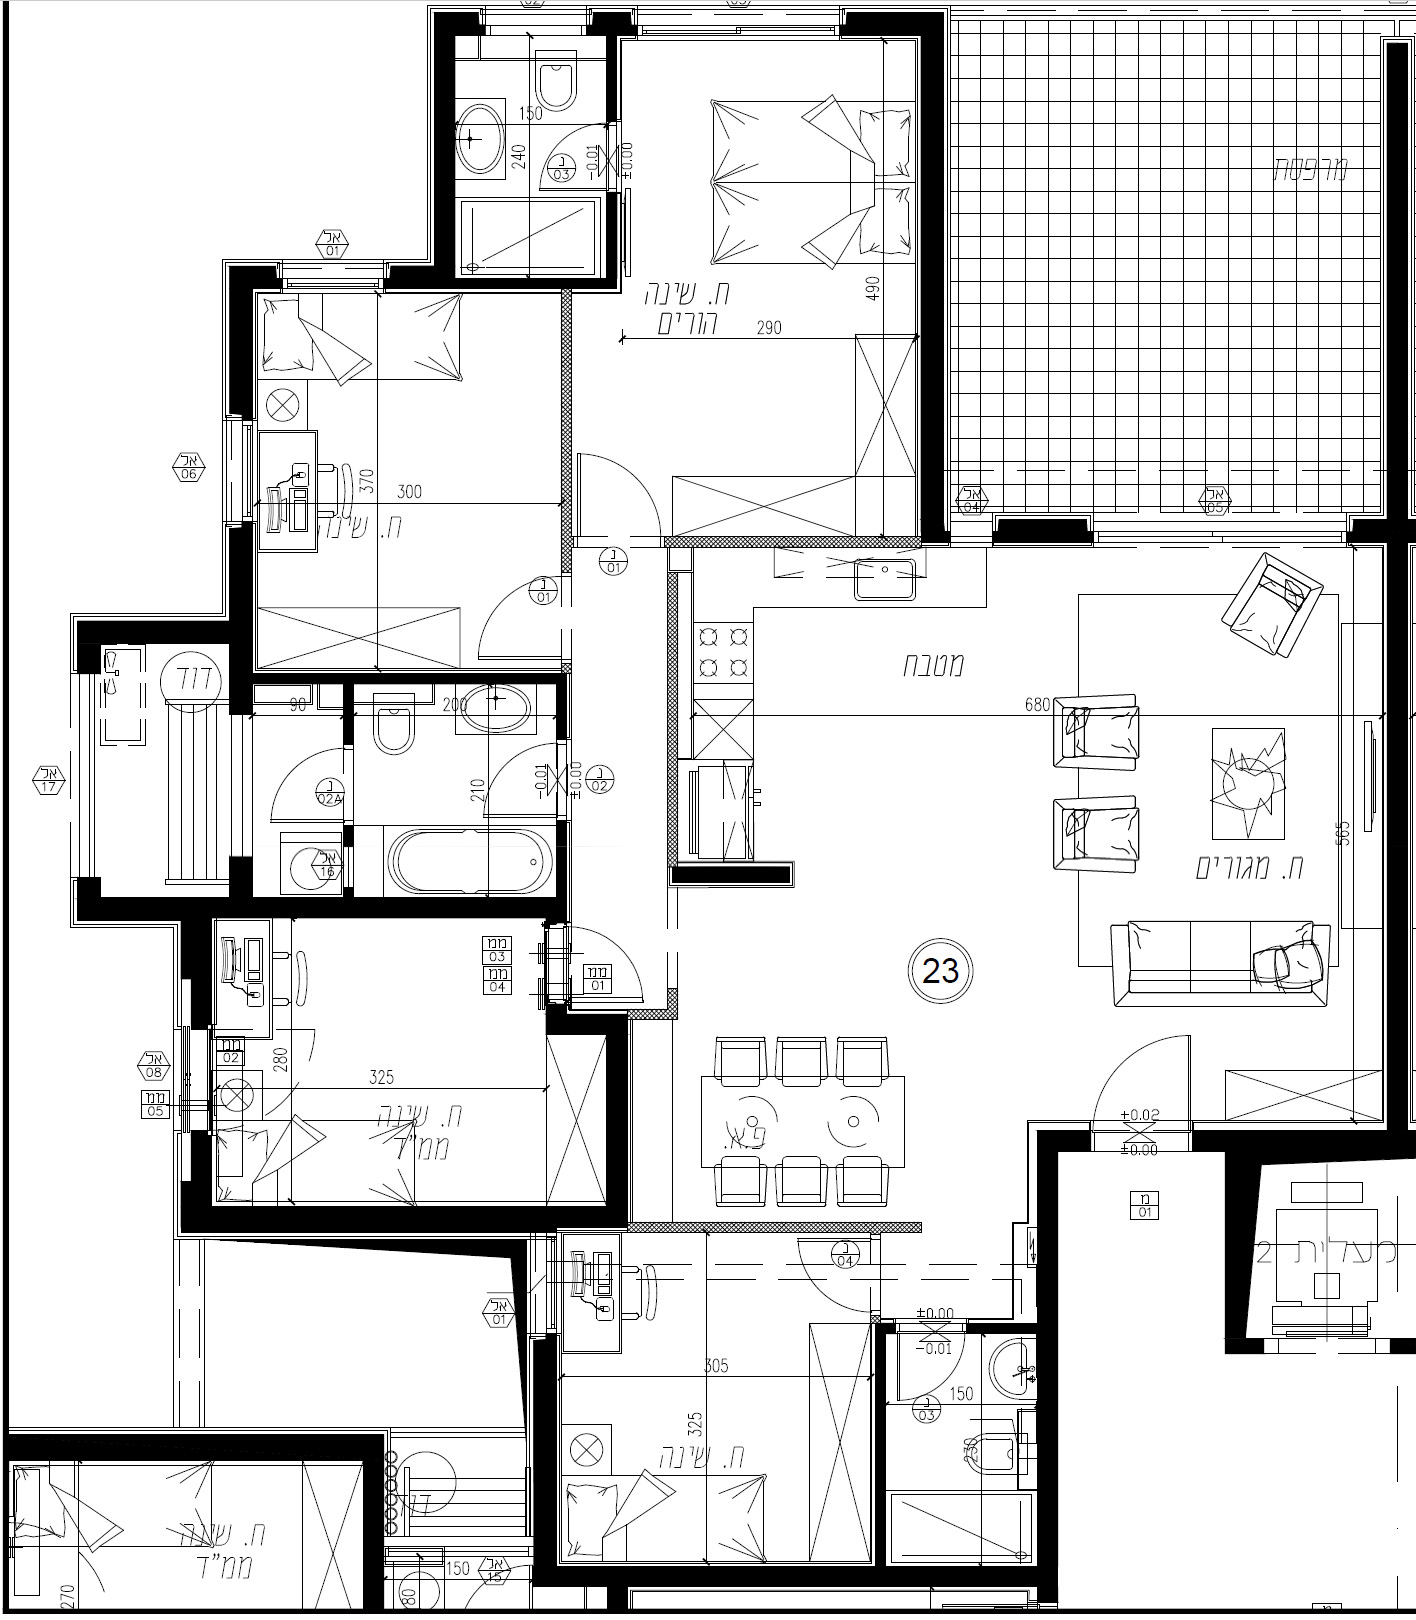door: (1079, 1022, 1200, 1116), (470, 568, 556, 663), (576, 442, 663, 536), (572, 919, 650, 1006), (788, 1232, 866, 1317), (472, 736, 550, 822)
wall: (1388, 41, 1409, 1159), (919, 10, 944, 541), (1037, 1128, 1061, 1599), (79, 897, 569, 917), (180, 1205, 628, 1226), (435, 10, 456, 288)
window: (1090, 519, 1346, 551), (639, 8, 842, 34), (529, 1232, 566, 1332), (220, 420, 258, 519), (280, 259, 383, 291), (485, 10, 588, 34)
